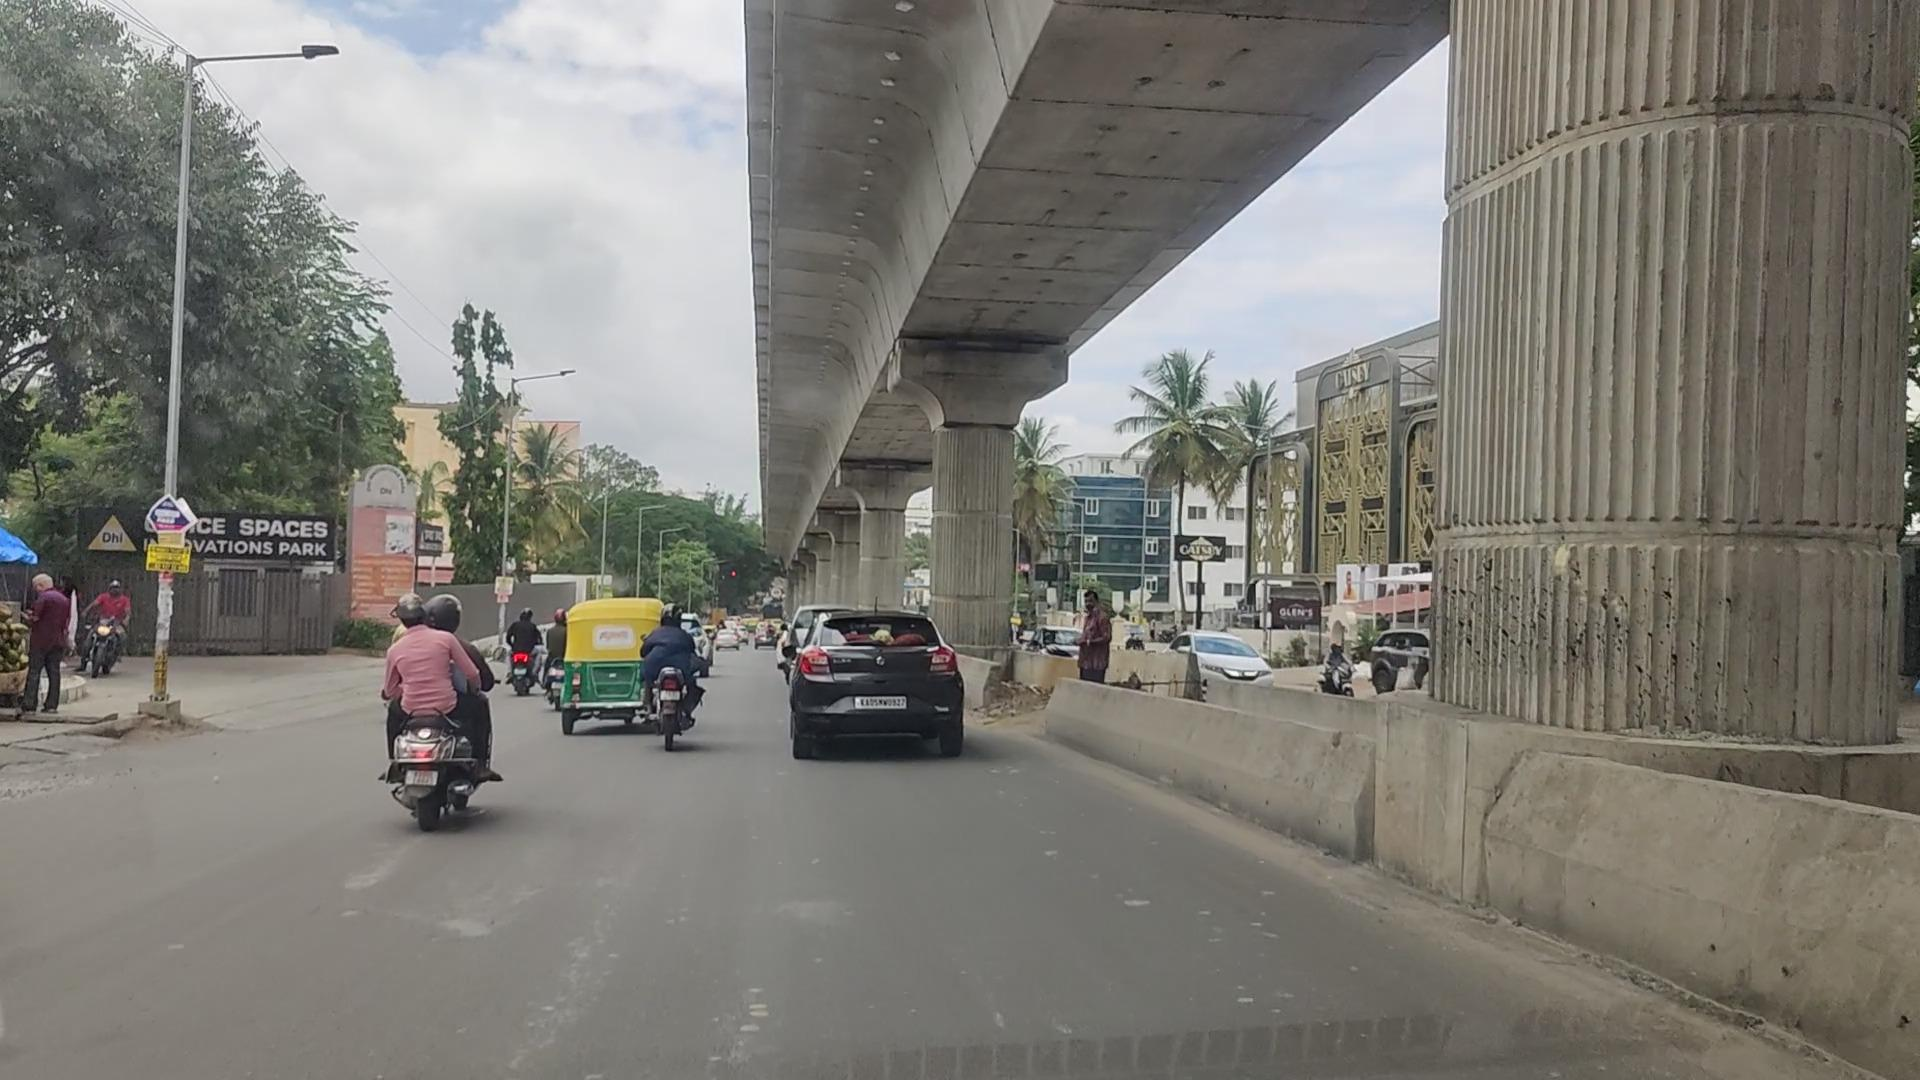LMV: (355, 585, 472, 852), (774, 620, 959, 782), (564, 607, 655, 740), (657, 615, 700, 737)
RoadDamages: (411, 899, 517, 952)
